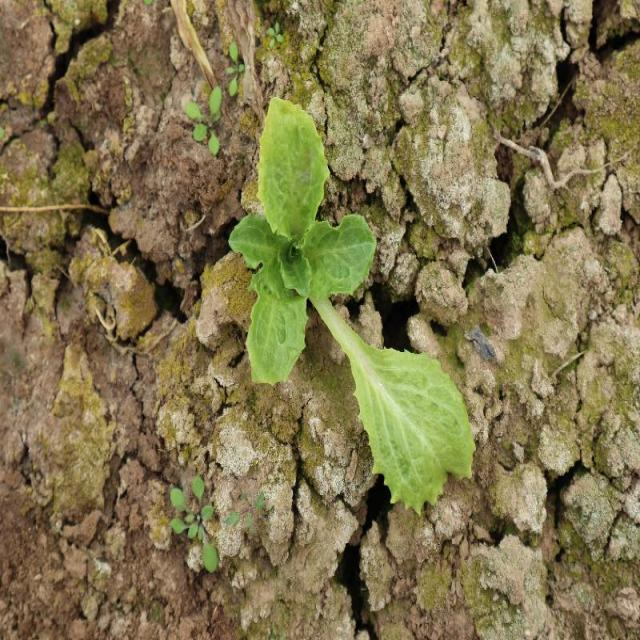crop: (230, 95, 476, 508)
